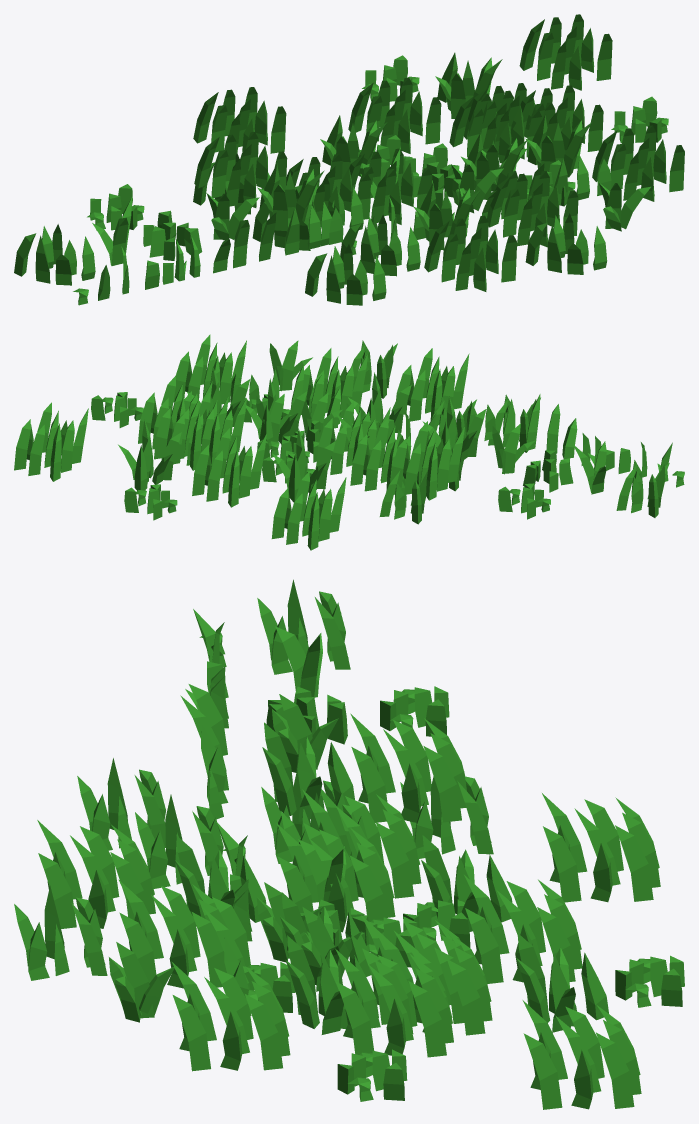
File: GrassPack2.fbx
The picture shows the model from 3 angles, top to bottom: view 1: azimuth 30°, elevation 25°; view 2: azimuth 150°, elevation 25°; view 3: azimuth 270°, elevation 25°; orthographic projection. The views are drawn at different scales.
Visible parts, largest first — view 1: GrassBunch7.007, GrassBunch7.003, GrassBunch7.010, GrassBunch7.006, GrassBunch7.002, GrassBunch7.011, GrassBunch7.005, GrassBunch1.003, GrassBunch1.005, GrassBunch1.006, GrassBunch7.001, GrassBunch7.008 (+30 smaller); view 2: GrassBunch7.007, GrassBunch7.005, GrassBunch7.006, GrassBunch7.011, GrassBunch7.003, GrassBunch7.010, GrassBunch7, GrassBunch7.004, GrassBunch7.002, GrassBunch7.001, GrassBunch4.004, GrassBunch7.008 (+26 smaller); view 3: GrassBunch7.007, GrassBunch7.005, GrassBunch7.010, GrassBunch7.011, GrassBunch7.009, GrassBunch7.003, GrassBunch7.006, GrassBunch7.002, GrassBunch7.001, GrassBunch7.004, GrassBunch7, GrassBunch4.004 (+29 smaller).
Boxes of the visible parts, <box> form: GrassBunch7.007: <box>519,14,612,90</box>; GrassBunch7.003: <box>424,215,516,291</box>; GrassBunch7.010: <box>592,125,684,201</box>; GrassBunch7.006: <box>348,77,441,153</box>; GrassBunch7.002: <box>487,171,578,247</box>; GrassBunch7.011: <box>194,132,287,207</box>; GrassBunch7.005: <box>193,87,286,154</box>; GrassBunch1.003: <box>525,213,607,274</box>; GrassBunch1.005: <box>305,244,386,305</box>; GrassBunch1.006: <box>14,224,95,285</box>; GrassBunch7.001: <box>349,148,432,224</box>; GrassBunch7.008: <box>449,90,542,163</box>; GrassBunch7.007: <box>14,402,88,481</box>; GrassBunch7.005: <box>271,471,346,550</box>; GrassBunch7.006: <box>192,428,266,507</box>; GrassBunch7.011: <box>390,421,464,500</box>; GrassBunch7.003: <box>396,348,469,425</box>; GrassBunch7.010: <box>173,334,246,404</box>; GrassBunch7: <box>154,391,228,470</box>; GrassBunch7.004: <box>350,418,424,494</box>; GrassBunch7.002: <box>301,348,367,424</box>; GrassBunch7.001: <box>316,401,390,474</box>; GrassBunch4.004: <box>118,420,181,490</box>; GrassBunch7.008: <box>180,392,246,467</box>; GrassBunch7.007: <box>522,1000,641,1109</box>; GrassBunch7.005: <box>542,793,660,902</box>; GrassBunch7.010: <box>171,961,290,1071</box>; GrassBunch7.011: <box>350,713,466,822</box>; GrassBunch7.009: <box>335,948,453,1057</box>; GrassBunch7.003: <box>37,820,155,928</box>; GrassBunch7.006: <box>464,875,582,983</box>; GrassBunch7.002: <box>118,879,227,988</box>; GrassBunch7.001: <box>276,823,395,932</box>; GrassBunch7.004: <box>302,789,421,898</box>; GrassBunch7: <box>373,926,492,1035</box>; GrassBunch4.004: <box>516,933,608,1032</box>.
Size of what is drawn, in the model's own units: 779 by 93.06 by 506.
